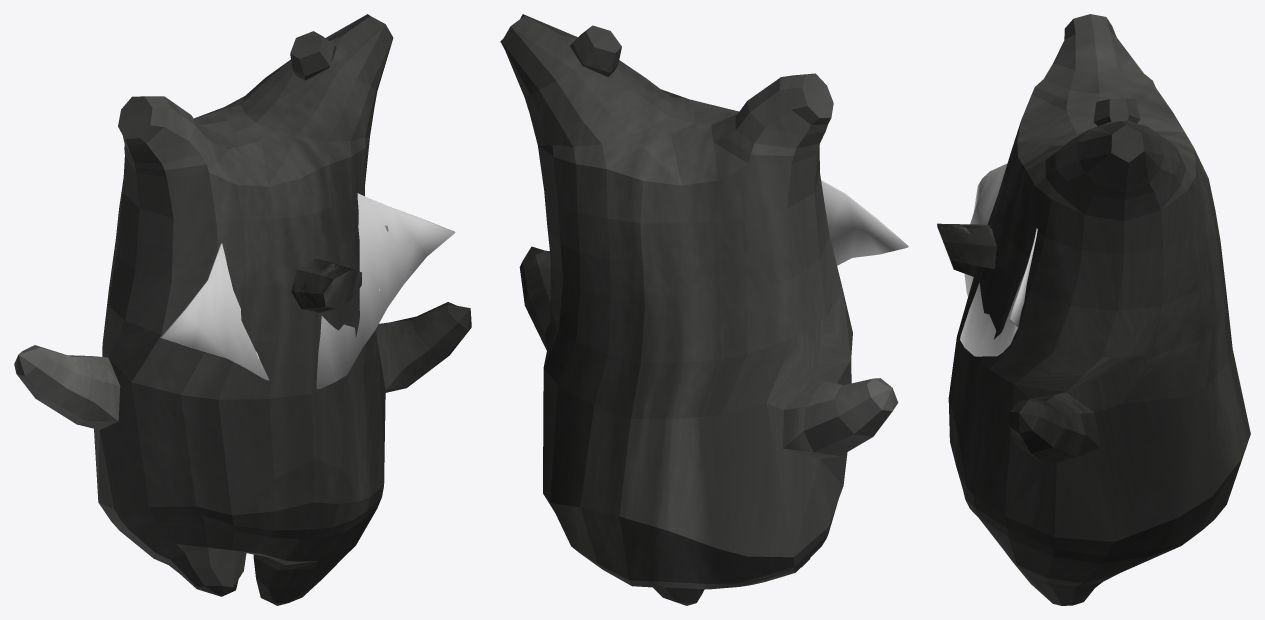
File: frame_0011.obj
3 renders of one model, left to right at view 1: azimuth 30°, elevation 25°; view 2: azimuth 150°, elevation 25°; view 3: azimuth 270°, elevation 25°, orthographic. The views are drawn at different scales.
Parts seen in each view (by area): view 1: korok, leaf, nose; view 2: korok, leaf; view 3: korok, leaf, nose.
Part boxes in pixels (bbox=[...]): korok: bbox=[14, 14, 471, 605]; leaf: bbox=[160, 193, 455, 388]; nose: bbox=[291, 258, 361, 312]; korok: bbox=[500, 14, 898, 605]; leaf: bbox=[821, 180, 908, 265]; korok: bbox=[948, 14, 1250, 605]; leaf: bbox=[960, 163, 1037, 356]; nose: bbox=[937, 223, 996, 280].
Bounding box in the file's own units: 1.73 × 2.24 × 1.18.
